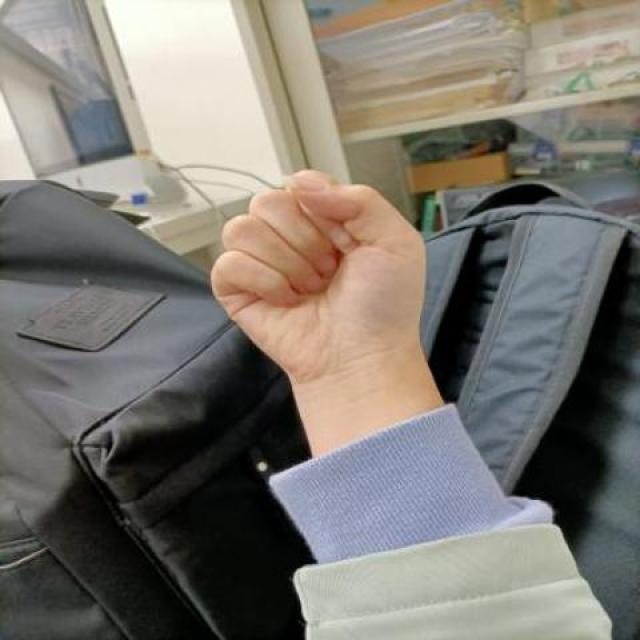fist: (191, 167, 452, 373)
